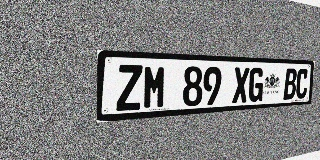8: (182, 66, 204, 107)
9: (202, 66, 222, 105)
B: (283, 68, 297, 100)
C: (295, 69, 309, 99)
G: (248, 68, 264, 102)
M: (143, 65, 167, 109)
X: (232, 67, 250, 103)
Z: (116, 64, 143, 111)
